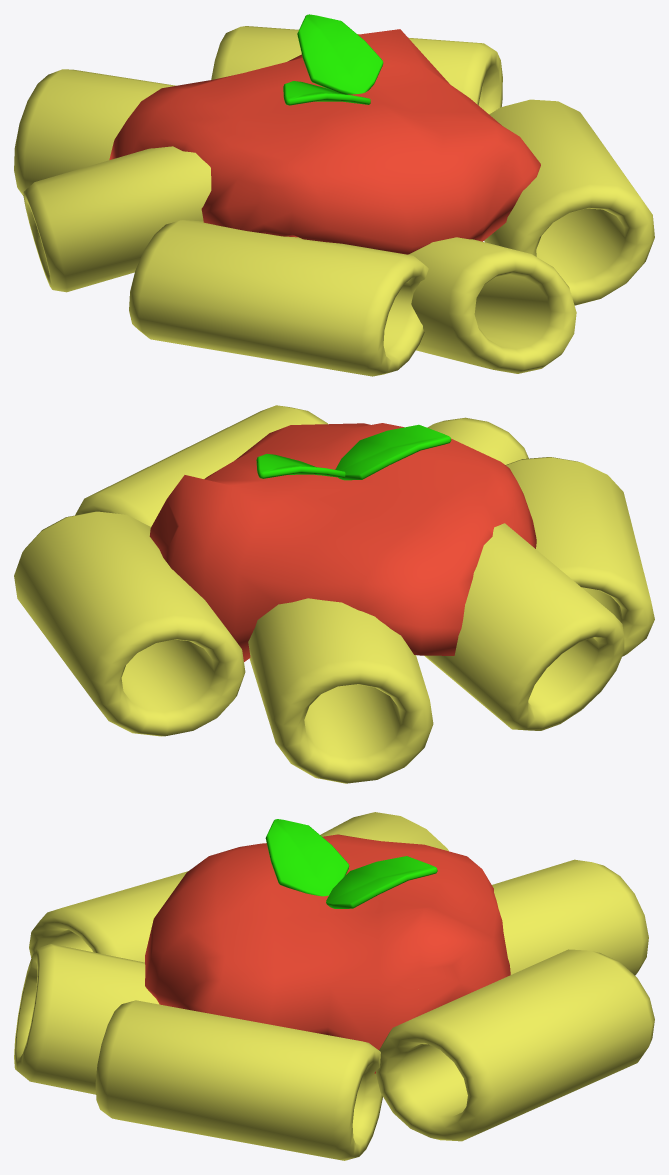
Rendered from SM_Pasta _Arrabiata.fbx.
3 renders of one model, top to bottom at view 1: azimuth 30°, elevation 25°; view 2: azimuth 150°, elevation 25°; view 3: azimuth 270°, elevation 25°, orthographic. The views are drawn at different scales.
Parts seen in each view (by area): view 1: SM_Pasta Arrabiata; view 2: SM_Pasta Arrabiata; view 3: SM_Pasta Arrabiata.
Boxes of the visible parts, left/top/right/bottom form: SM_Pasta Arrabiata: left=14, top=14, right=654, bottom=376; SM_Pasta Arrabiata: left=14, top=405, right=654, bottom=783; SM_Pasta Arrabiata: left=14, top=812, right=654, bottom=1160.
Size of the model in its own units: 116 by 52.54 by 122.
